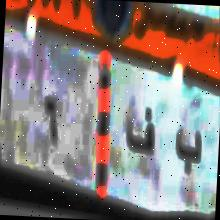6: (40, 84, 66, 152)
baa: (172, 125, 203, 175)
faa: (122, 94, 160, 163)
